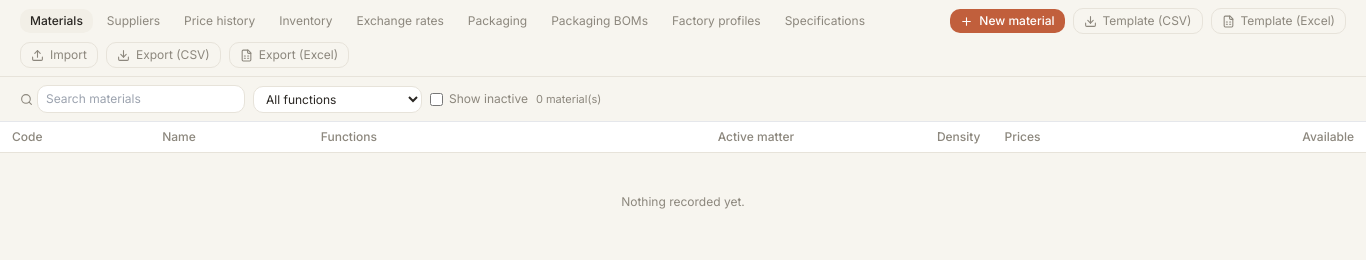
MaterialsPage — Specifications tab (FVL-04.005 real consumer) › empty state renders honestly when no specifications exist
Click the button "Specifications": point(825, 21) [775, 9, 875, 33]
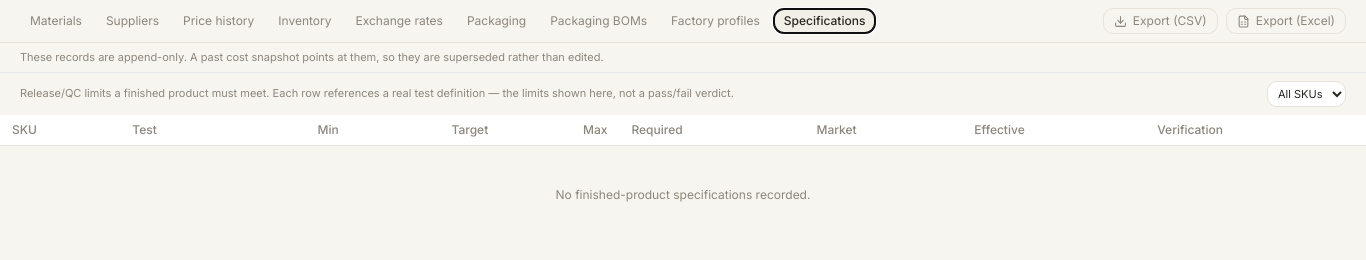
Check: the text "No finished-product specifications recorded." is shown, box [0, 145, 1365, 244]
